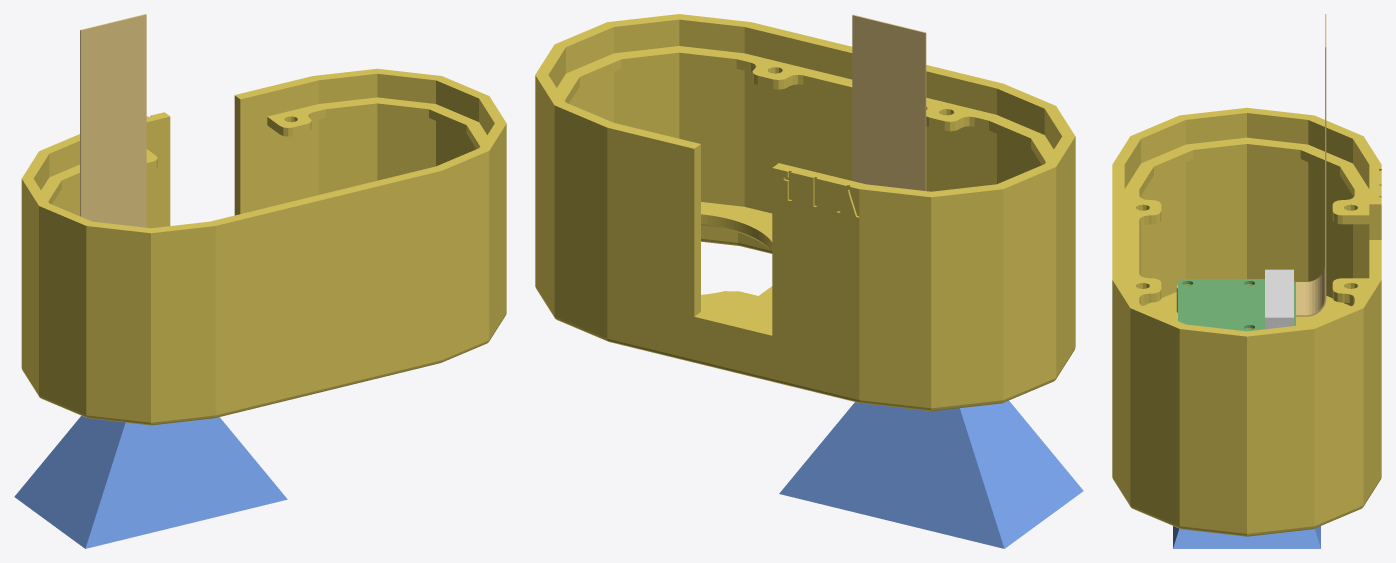
Rendered from head_cam.glb.
3 views of the same model, side by side, from view 1: azimuth 30°, elevation 25°; view 2: azimuth 150°, elevation 25°; view 3: azimuth 270°, elevation 25° (orthographic). The views are drawn at different scales.
Parts seen in each view (by area): view 1: cam_p_head_shell_cam3, cam_c_cam3_fov, cam_c_cam3_fpc; view 2: cam_p_head_shell_cam3, cam_c_cam3_fov, cam_c_cam3_fpc; view 3: cam_p_head_shell_cam3, cam_c_cam3_board, cam_c_cam3_fov, cam_c_cam3_j1, cam_c_cam3_fpc.
Part boxes in pixels (bbox=[...]): cam_p_head_shell_cam3: bbox=[21, 68, 506, 425]; cam_c_cam3_fov: bbox=[14, 416, 287, 548]; cam_c_cam3_fpc: bbox=[80, 14, 146, 227]; cam_p_head_shell_cam3: bbox=[535, 14, 1075, 411]; cam_c_cam3_fov: bbox=[779, 400, 1083, 548]; cam_c_cam3_fpc: bbox=[852, 14, 926, 190]; cam_p_head_shell_cam3: bbox=[1112, 107, 1381, 536]; cam_c_cam3_board: bbox=[1178, 279, 1295, 331]; cam_c_cam3_fov: bbox=[1173, 526, 1320, 548]; cam_c_cam3_j1: bbox=[1265, 269, 1293, 328]; cam_c_cam3_fpc: bbox=[1296, 14, 1326, 316].
Bounding box in the file's own units: 0.1095 × 0.1041 × 0.0545.
